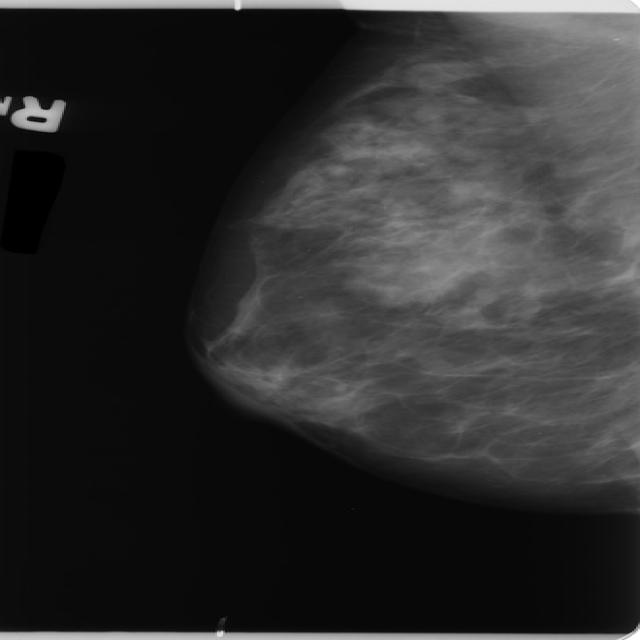tumour: (345, 252, 464, 299)
